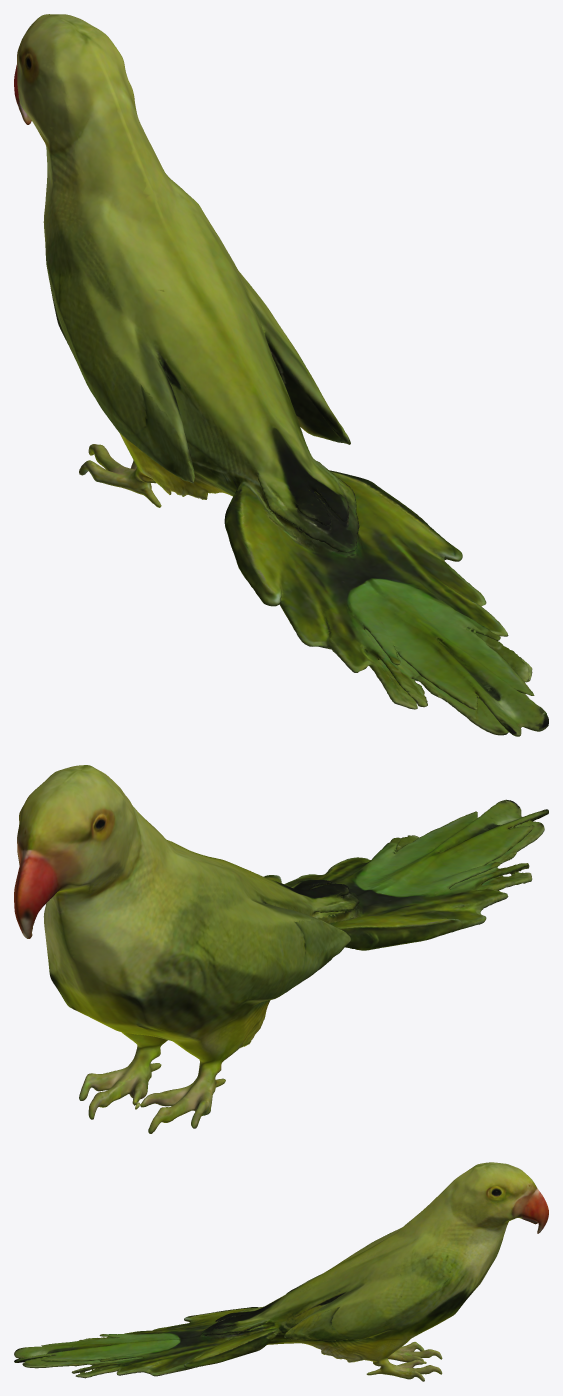
File: lorenzo.glb
3 views of the same model, one above another, from view 1: azimuth 30°, elevation 25°; view 2: azimuth 150°, elevation 25°; view 3: azimuth 270°, elevation 25° (orthographic). The views are drawn at different scales.
Parts seen in each view (by area): view 1: Object_3, Object_4; view 2: Object_3, Object_4; view 3: Object_4, Object_3.
Part boxes in pixels (x1=…): Object_3: x1=14, y1=14, x2=548, y2=736; Object_4: x1=14, y1=14, x2=486, y2=709; Object_3: x1=15, y1=765, x2=548, y2=1133; Object_4: x1=14, y1=765, x2=531, y2=1133; Object_4: x1=125, y1=1163, x2=548, y2=1381; Object_3: x1=14, y1=1162, x2=548, y2=1381.
Size of the model in its own units: 0.4451 by 0.8364 by 2.
1 material, 1 textured.
